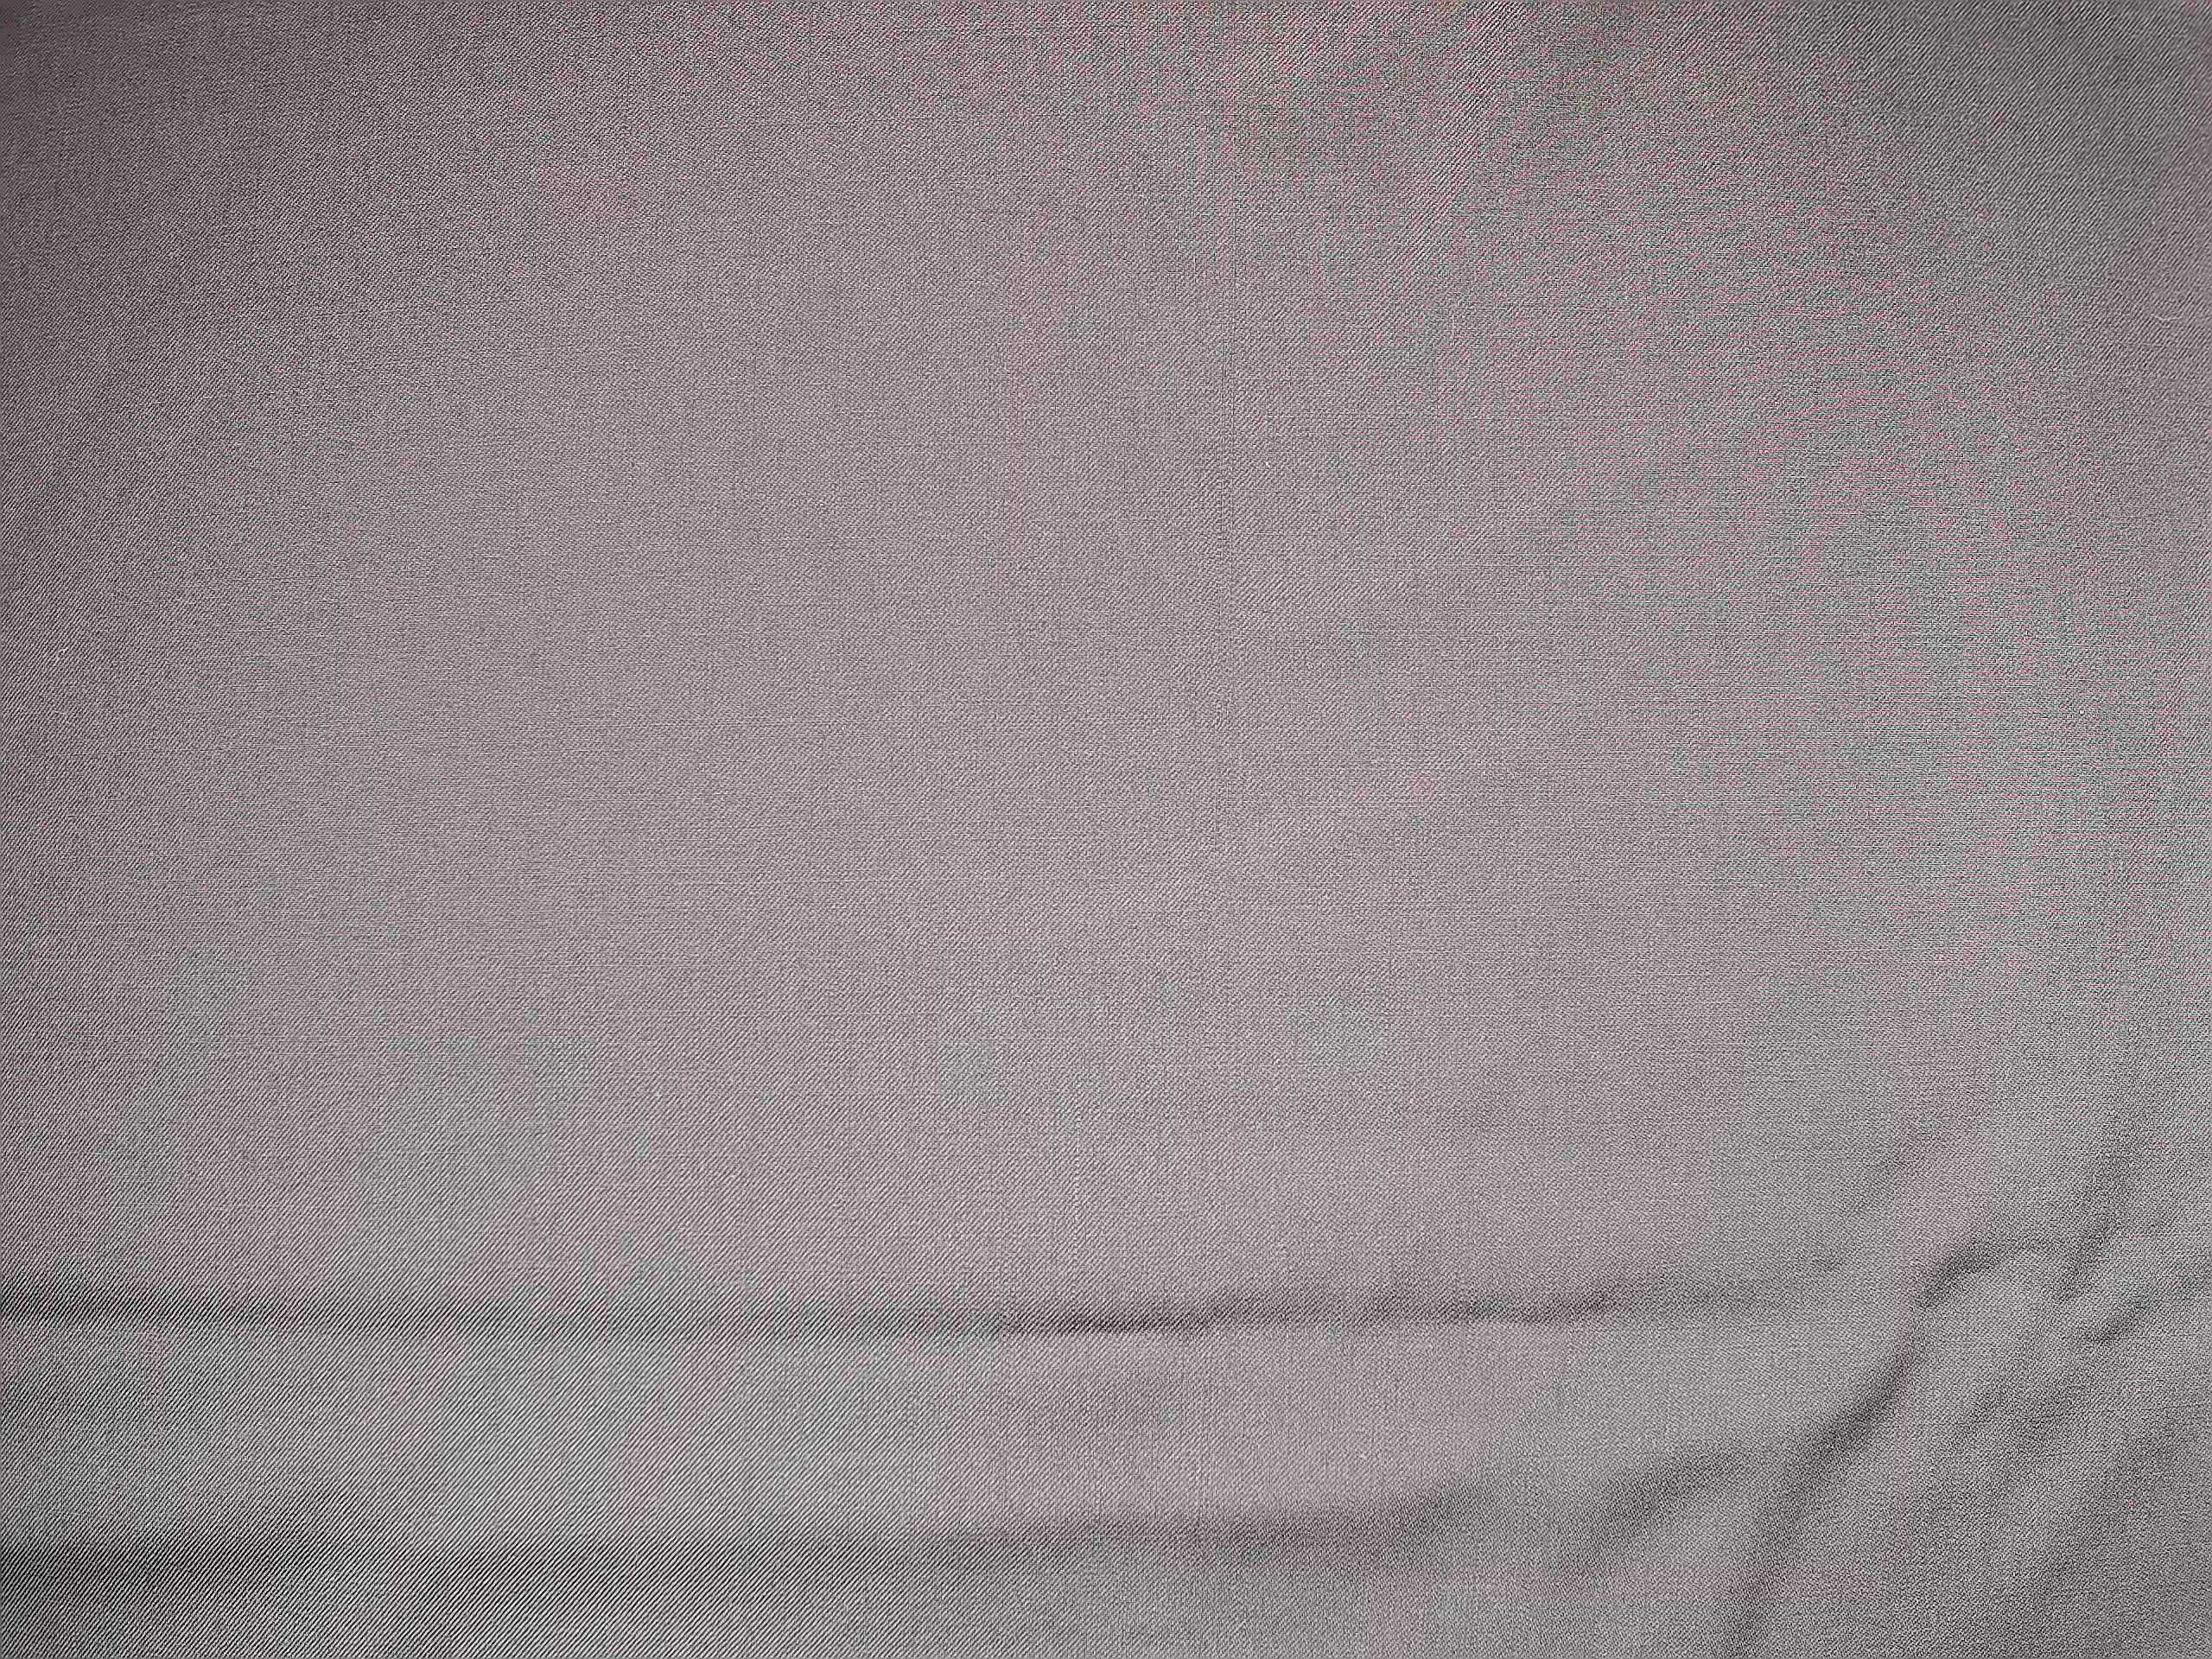hanging-warp: (1202, 288, 1256, 756)
